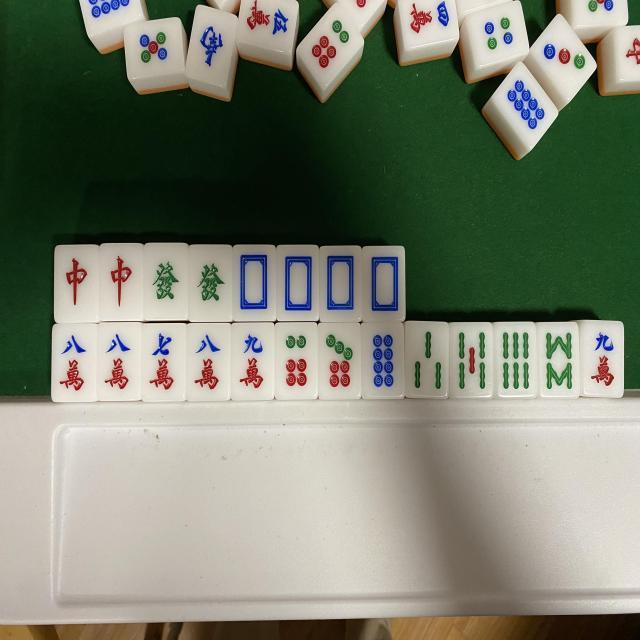hdg: (144, 248, 188, 322), (190, 249, 232, 322)
hdr: (56, 247, 98, 321), (104, 248, 146, 320)
hdw: (233, 247, 274, 319), (366, 249, 407, 320), (278, 246, 318, 318), (322, 247, 361, 319)
sb3: (410, 329, 448, 401)
sb5: (449, 325, 492, 397)
sb6: (496, 326, 537, 396)
sb8: (541, 326, 580, 396)
sc7: (142, 324, 184, 401)
sc8: (52, 324, 95, 400), (98, 324, 141, 400), (188, 324, 231, 398)
sc9: (584, 324, 626, 394), (235, 326, 272, 400)
sd6: (276, 327, 316, 400)
sd7: (318, 332, 358, 402)
sd8: (361, 326, 402, 400)
